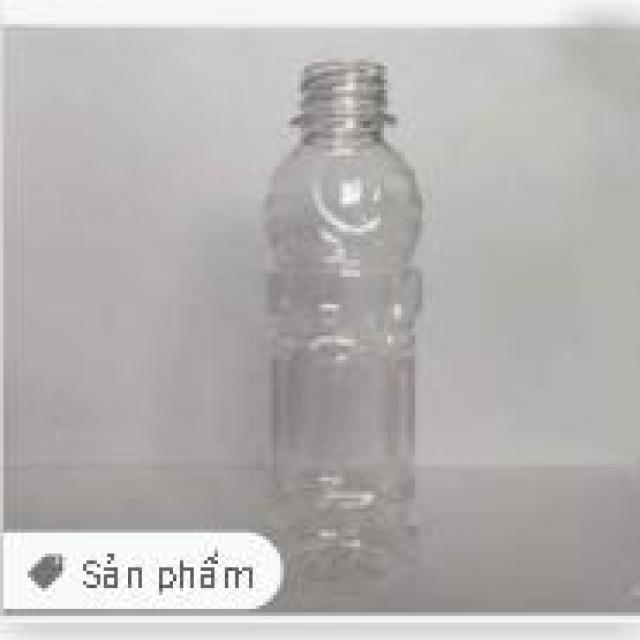bottle: (224, 47, 446, 618)
